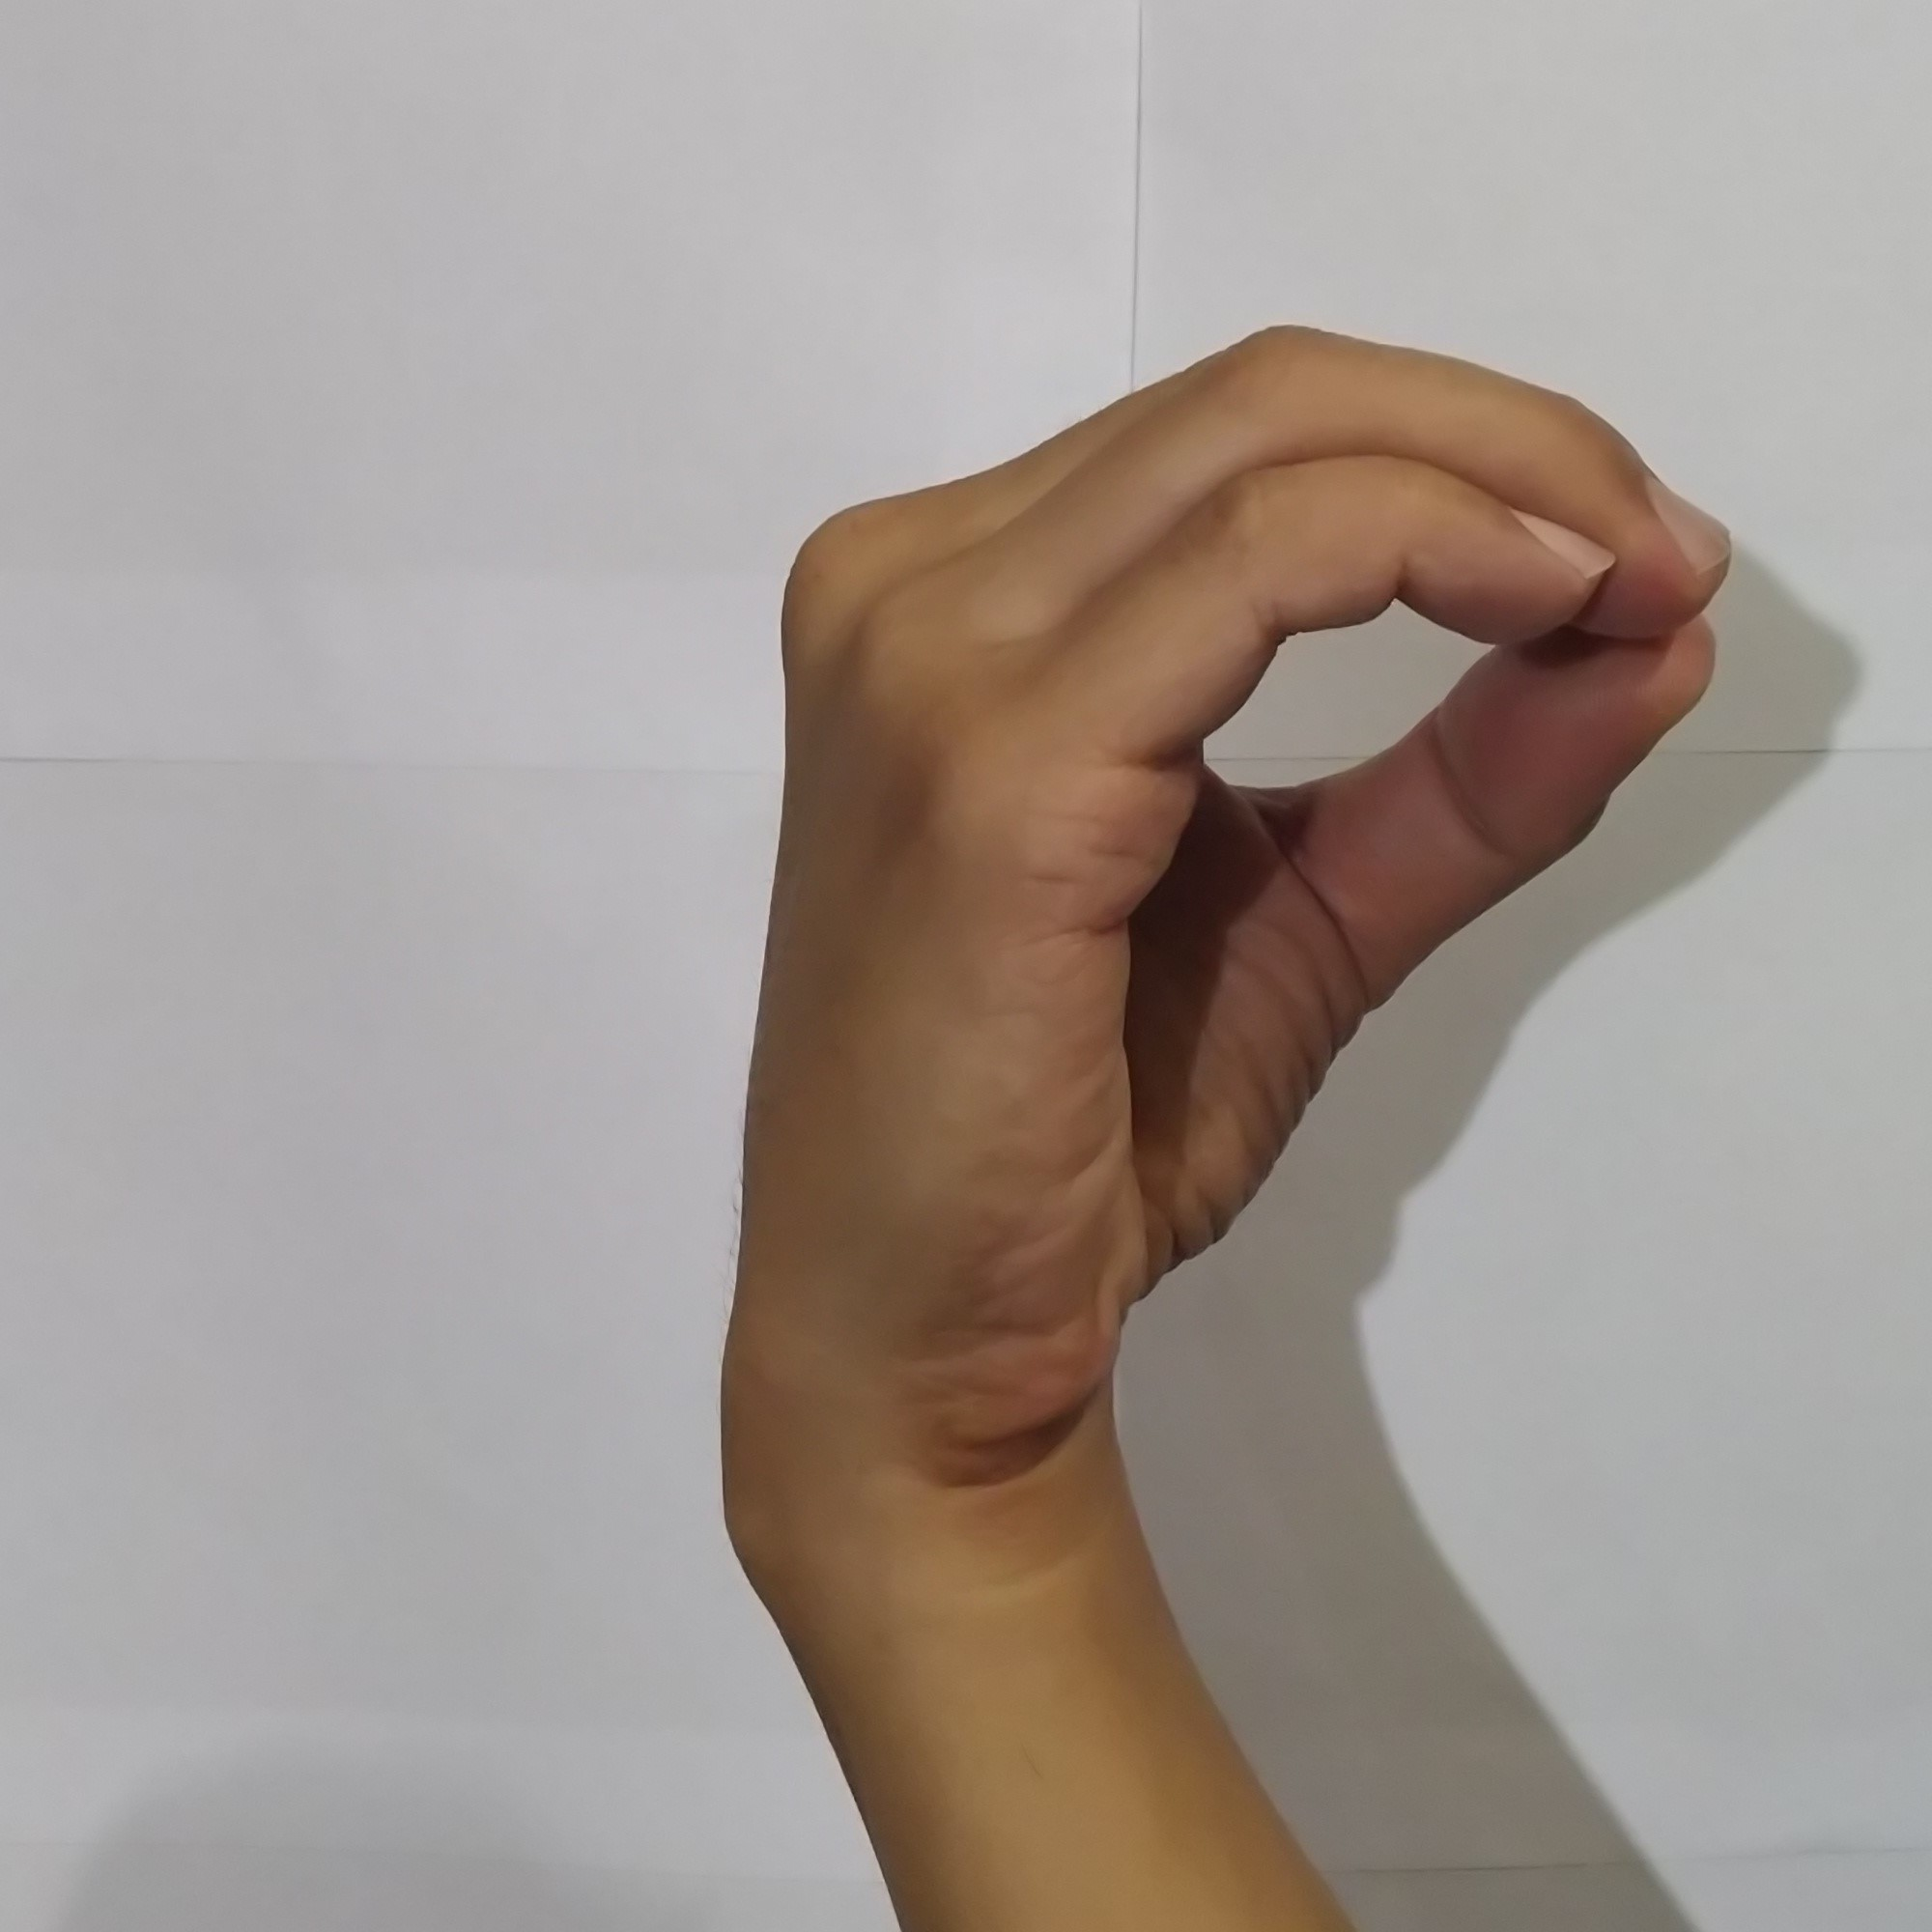O: (699, 290, 1760, 1465)
